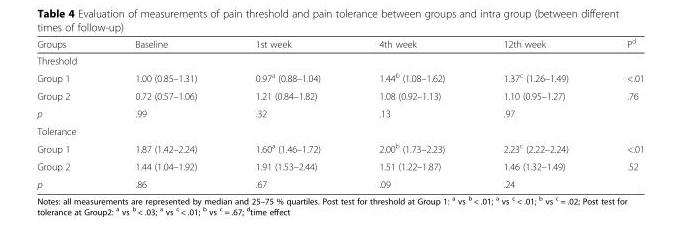table: (36, 36, 643, 189)
table column: (225, 36, 349, 189), (349, 36, 473, 189), (473, 36, 597, 189), (105, 36, 225, 189), (36, 36, 105, 189), (597, 36, 643, 189)
table column header: (36, 36, 643, 52)
table projected row header: (36, 52, 643, 68), (36, 122, 643, 138)
table row: (36, 138, 643, 157), (36, 68, 643, 86), (36, 86, 643, 104), (36, 104, 643, 122), (36, 157, 643, 175), (36, 36, 643, 52), (36, 52, 643, 68), (36, 122, 643, 138), (36, 175, 643, 189)
